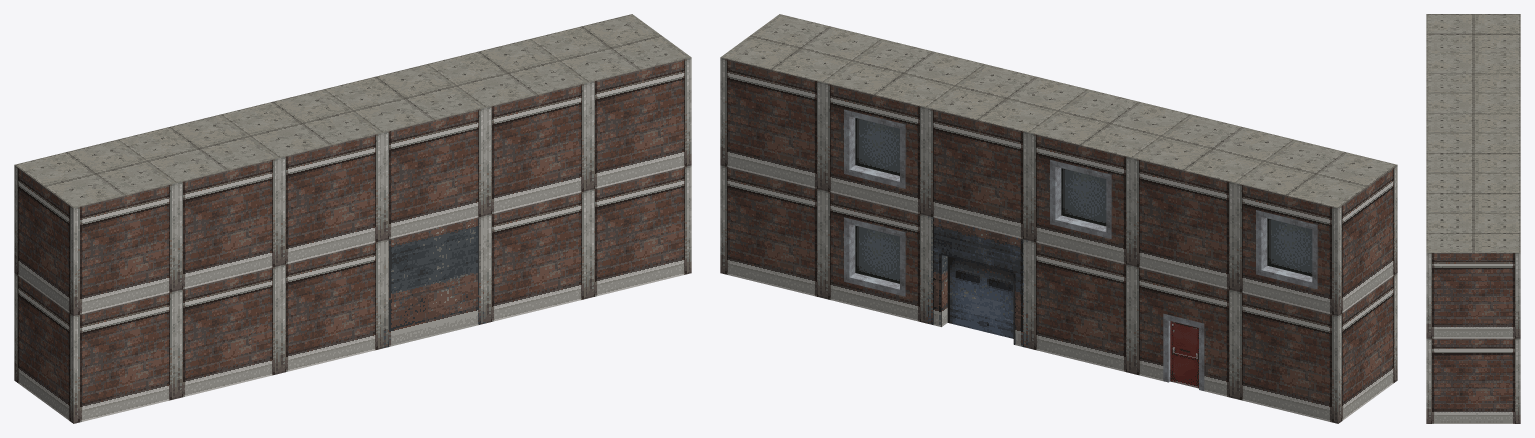
The model's file is facade-north.obj.
3 views of the same model, side by side, from view 1: azimuth 30°, elevation 25°; view 2: azimuth 150°, elevation 25°; view 3: azimuth 270°, elevation 25° (orthographic). The views are drawn at different scales.
Size of the model in its own units: 6 by 2 by 1.
